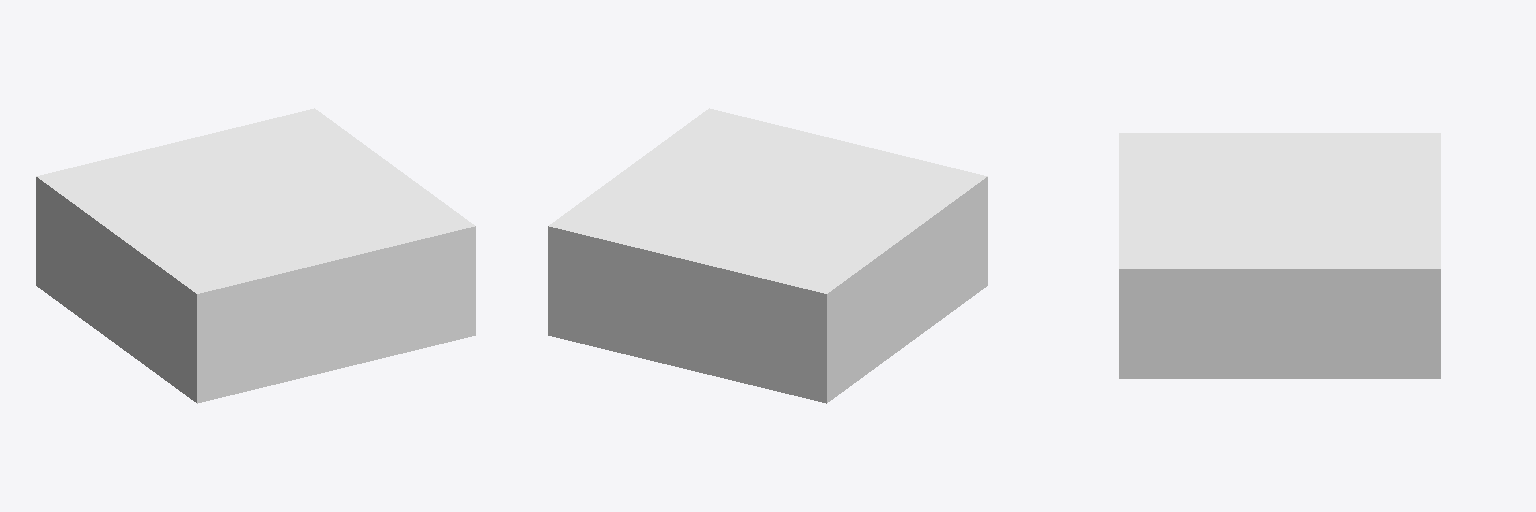
Rendered from tile-1.obj.
3 views of the same model, side by side, from view 1: azimuth 30°, elevation 25°; view 2: azimuth 150°, elevation 25°; view 3: azimuth 270°, elevation 25° (orthographic).
Visible parts, largest first — view 1: object 1; view 2: object 1; view 3: object 1.
Part boxes in pixels (x1,y1,x2,y2): object 1: (36, 108, 475, 403); object 1: (548, 108, 987, 403); object 1: (1119, 133, 1440, 378).
Size of the model in its own units: 1.6 by 0.6 by 1.6.